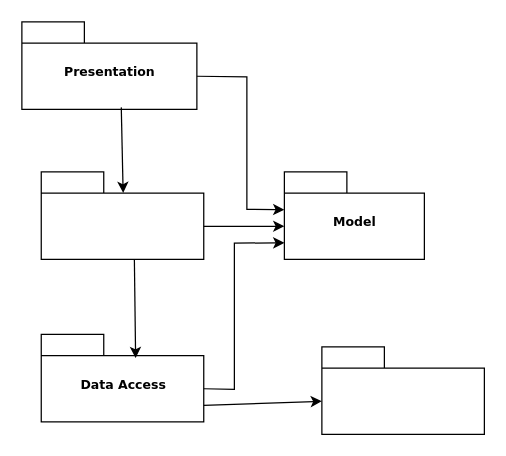
The diagram is 506 pixels wide and 456 high, and some of its shapes have lost their labels. The shapes that lost their labels are listed below. From the top down, each one's centre as x and y in pixels, then its label:
the point at 122,215: Business Logic
the point at 402,390: Connection
